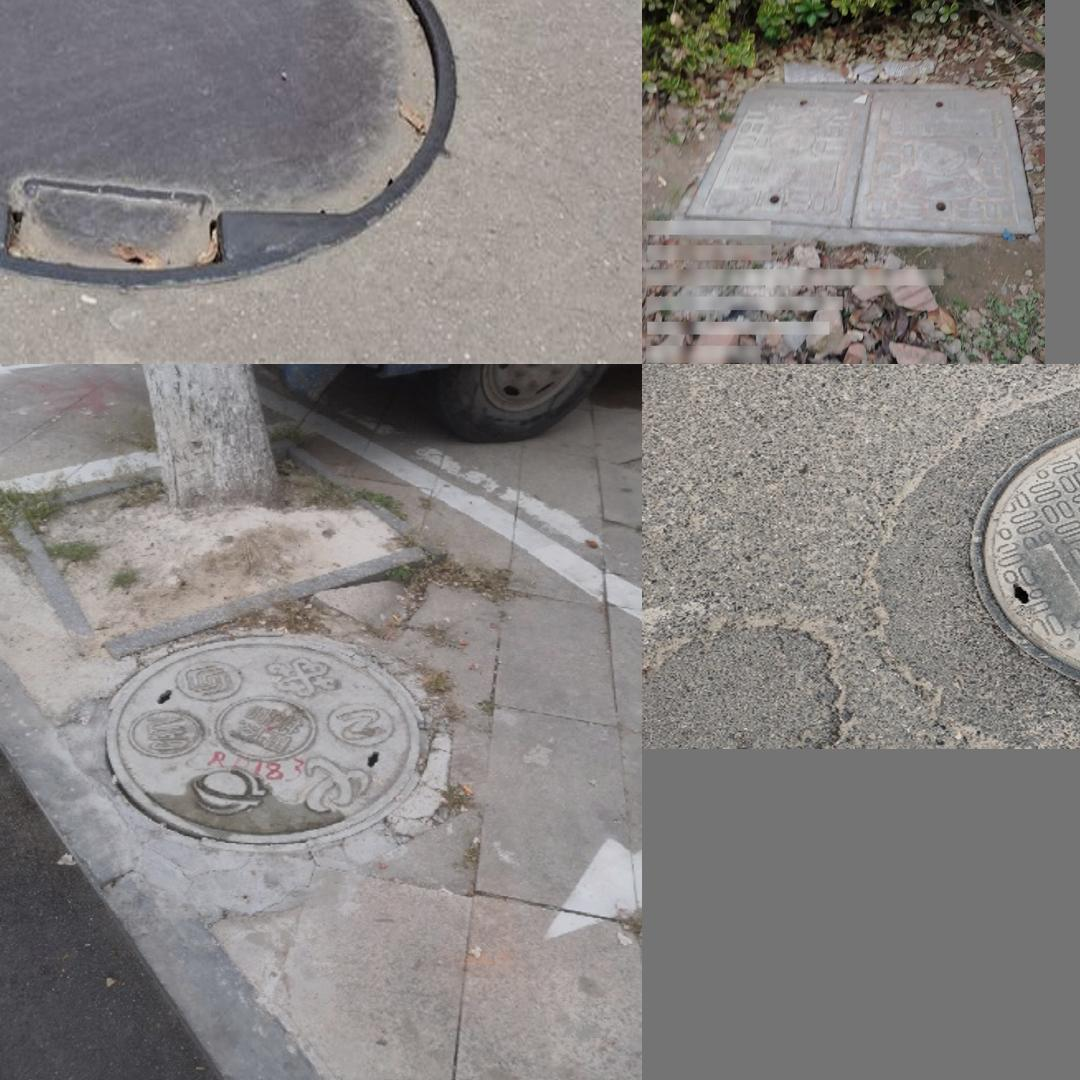good: (0, 0, 487, 300), (106, 639, 432, 848), (683, 83, 1036, 234), (963, 418, 1080, 707)
